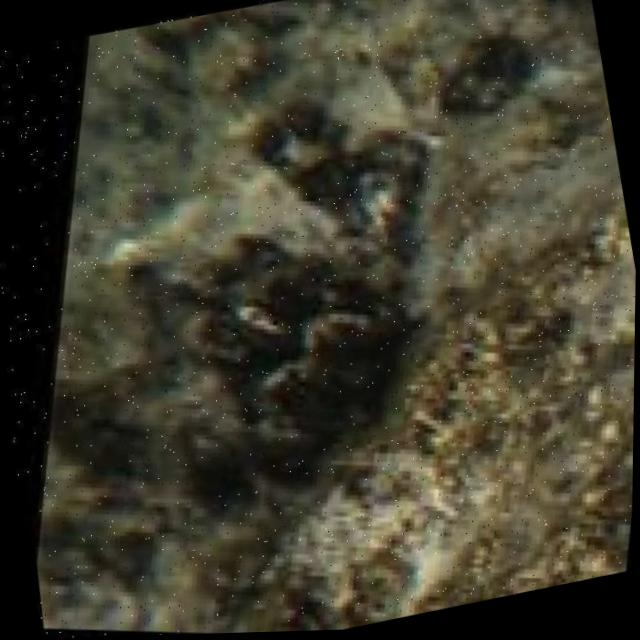Dead Coral: (21, 147, 499, 608)
